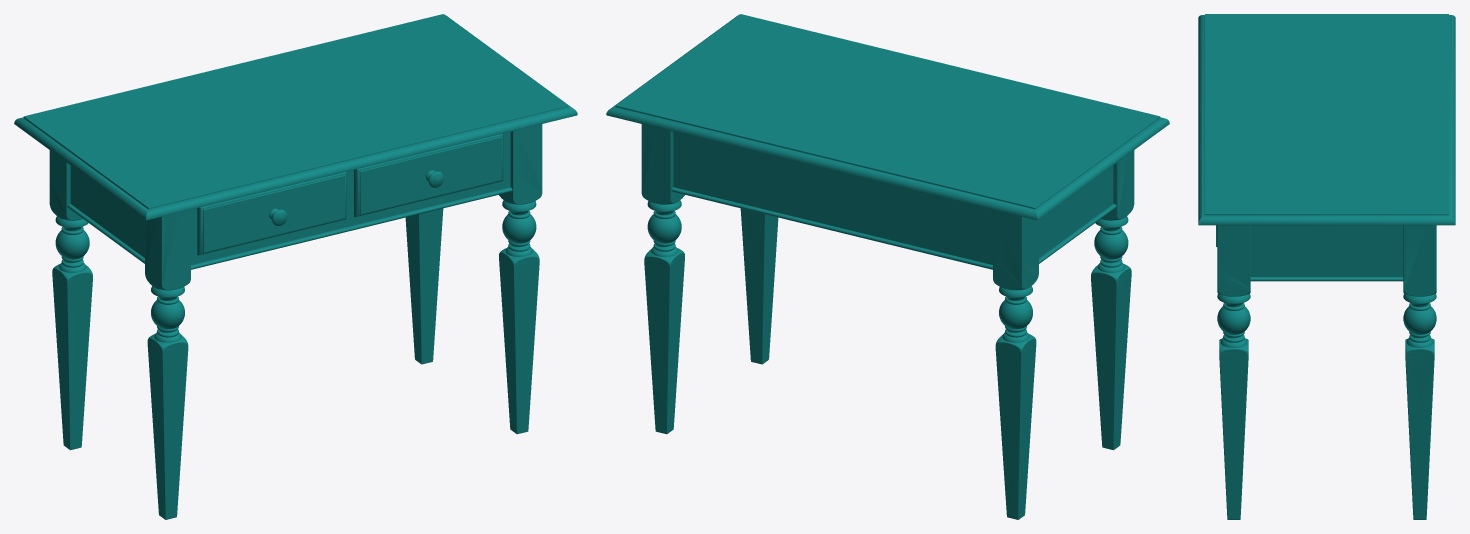
The model's file is Project Name.glb.
3 renders of one model, left to right at view 1: azimuth 30°, elevation 25°; view 2: azimuth 150°, elevation 25°; view 3: azimuth 270°, elevation 25°, orthographic. The views are drawn at different scales.
Parts seen in each view (by area): view 1: Buffer Object; view 2: Buffer Object; view 3: Buffer Object.
Boxes of the visible parts, x1,y1,x2,y2 form: Buffer Object: (14,14,577,519); Buffer Object: (606,14,1169,519); Buffer Object: (1198,14,1455,519).
Bounding box in the file's own units: 51 × 37 × 27.
